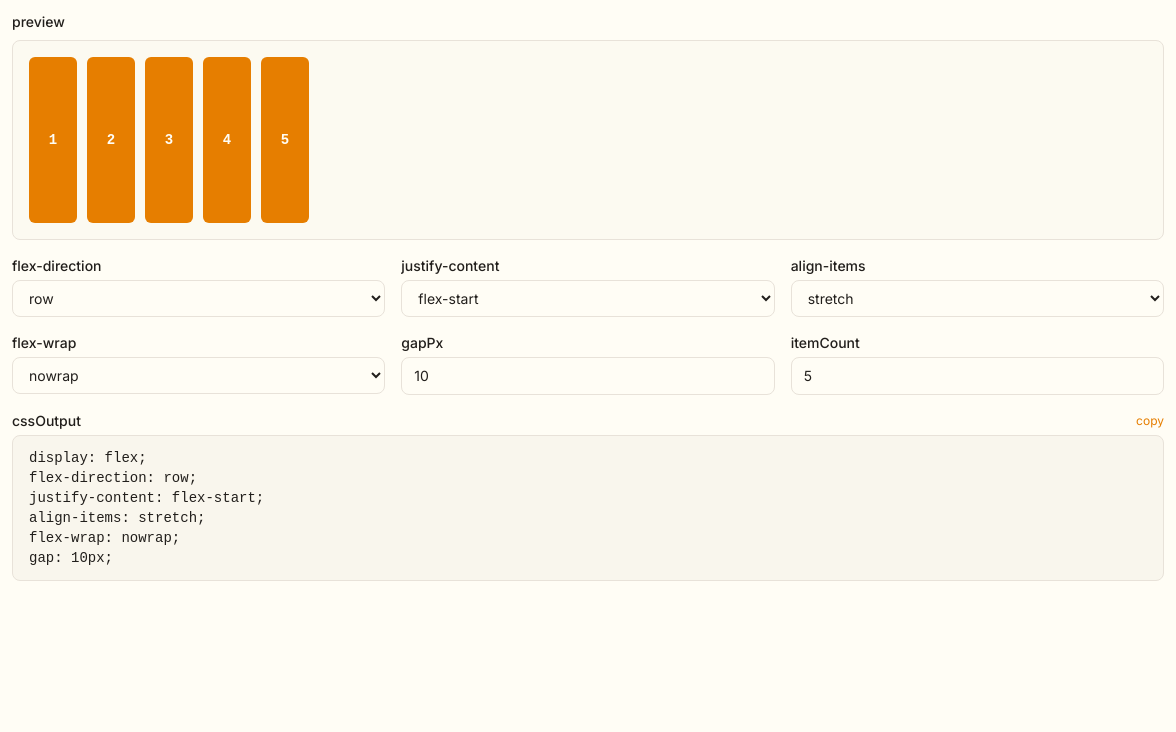
Test: CssFlexboxGenerator › changes flex-direction
Select "column" in the dropdown labelled "flex-direction" at point(199, 298), box [12,280,385,317]
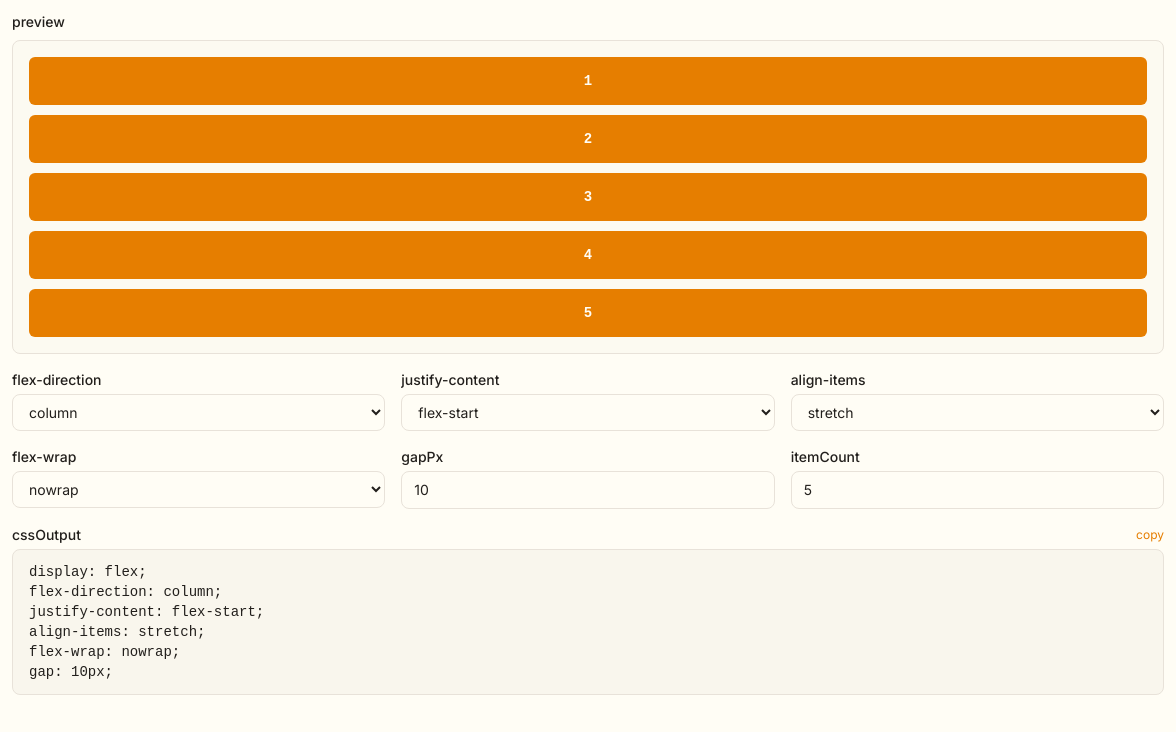
Check: the text "flex-direction: column" is shown, box [29,564,264,680]
